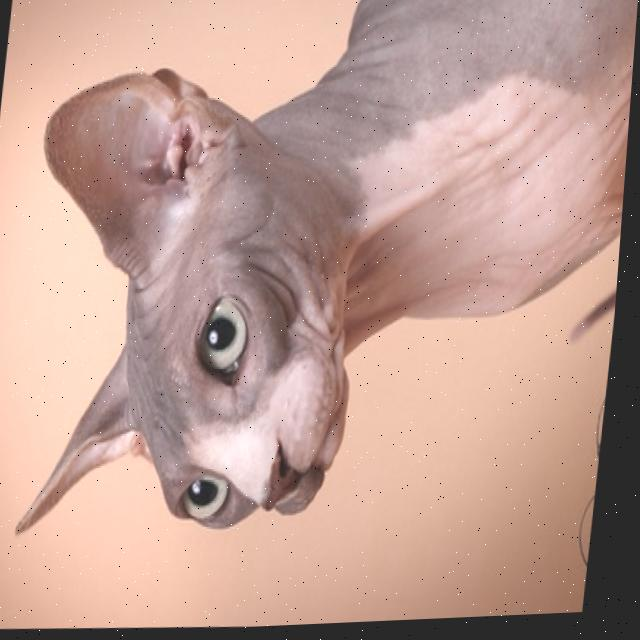Sphynx: (3, 0, 640, 564)
